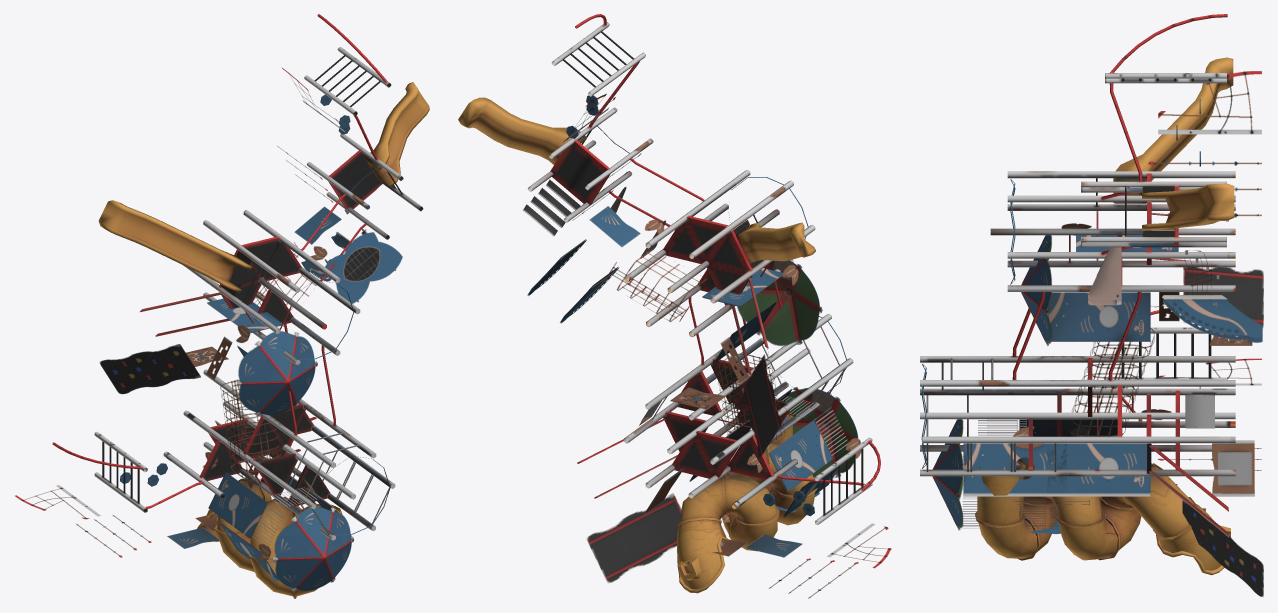
Rendered from low-poly-kids-playground-61c6f6.glb.
3 renders of one model, left to right at view 1: azimuth 30°, elevation 25°; view 2: azimuth 150°, elevation 25°; view 3: azimuth 270°, elevation 25°, orthographic. The views are drawn at different scales.
Parts seen in each view (by area): view 1: PropMesh; view 2: PropMesh; view 3: PropMesh.
Boxes of the visible parts, <box> form: PropMesh: <box>15,14,429,598</box>; PropMesh: <box>458,14,891,598</box>; PropMesh: <box>920,14,1263,596</box>.
Size of the model in its own units: 1.83 by 2.2 by 1.11.
Materials: 2 (2 with a texture image).
